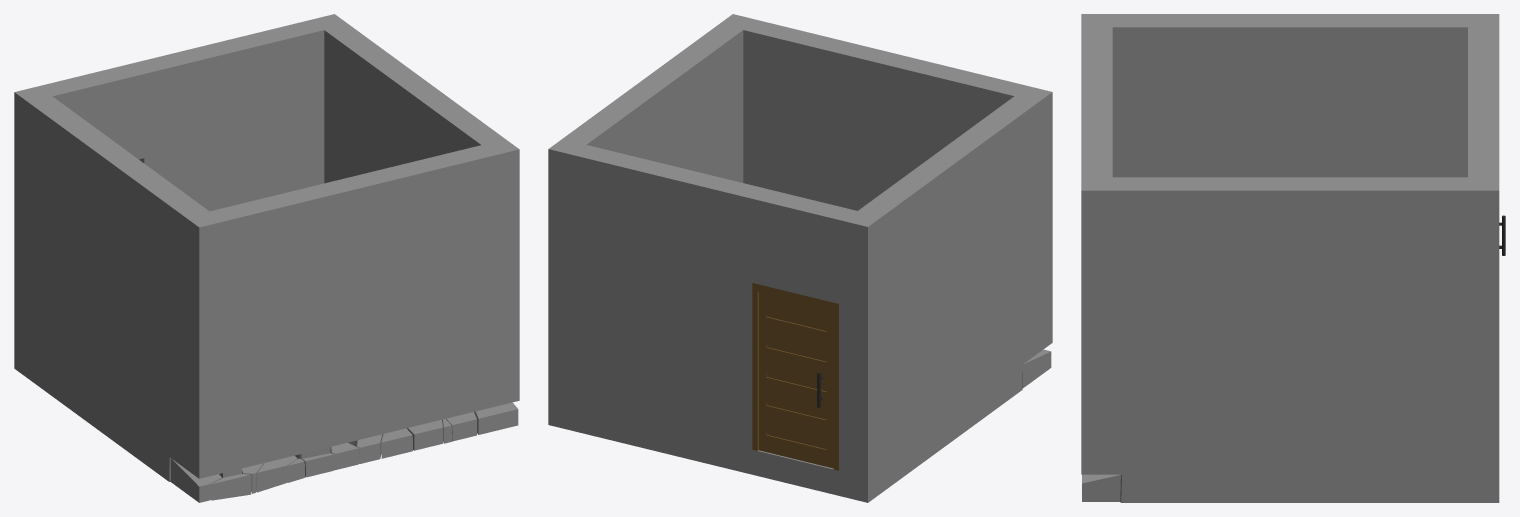
File: MSH_Room_SingleDoor_Front_Damaged_01.fbx
3 renders of one model, left to right at view 1: azimuth 30°, elevation 25°; view 2: azimuth 150°, elevation 25°; view 3: azimuth 270°, elevation 25°, orthographic. The views are drawn at different scales.
Parts seen in each view (by area): view 1: MSH_Room_SingleDoor_Front_Damaged_01, MSH_Room_SingleDoor_Front007; view 2: MSH_Room_SingleDoor_Front_Damaged_01, MSH_Room_SingleDoor_Front007, MSH_Door_Single, MSH_DoorFrame_Single; view 3: MSH_Room_SingleDoor_Front_Damaged_01, MSH_Room_SingleDoor_Front007.
Part boxes in pixels (bbox=[...]): MSH_Room_SingleDoor_Front_Damaged_01: bbox=[14, 14, 519, 478]; MSH_Room_SingleDoor_Front007: bbox=[14, 344, 518, 502]; MSH_Room_SingleDoor_Front_Damaged_01: bbox=[548, 14, 1052, 477]; MSH_Room_SingleDoor_Front007: bbox=[548, 349, 1051, 502]; MSH_Door_Single: bbox=[759, 291, 833, 468]; MSH_DoorFrame_Single: bbox=[752, 283, 838, 470]; MSH_Room_SingleDoor_Front_Damaged_01: bbox=[1081, 14, 1499, 474]; MSH_Room_SingleDoor_Front007: bbox=[1082, 474, 1499, 502].
Bounding box in the file's own units: 157 × 132 × 160.
